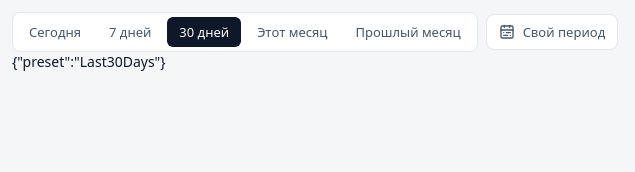
Test: Выбор периода › клик по пресету меняет период
Click the button "7 дней" at (130,32), box [97,17,163,47]
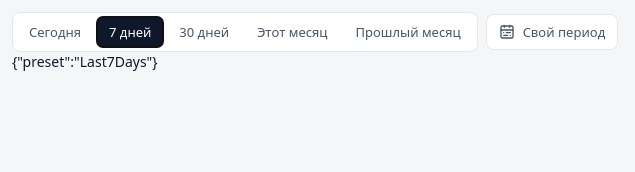
Expected: the text with test id "period" shows "\"preset\":\"Last7Days\"", [12,52,158,71]
